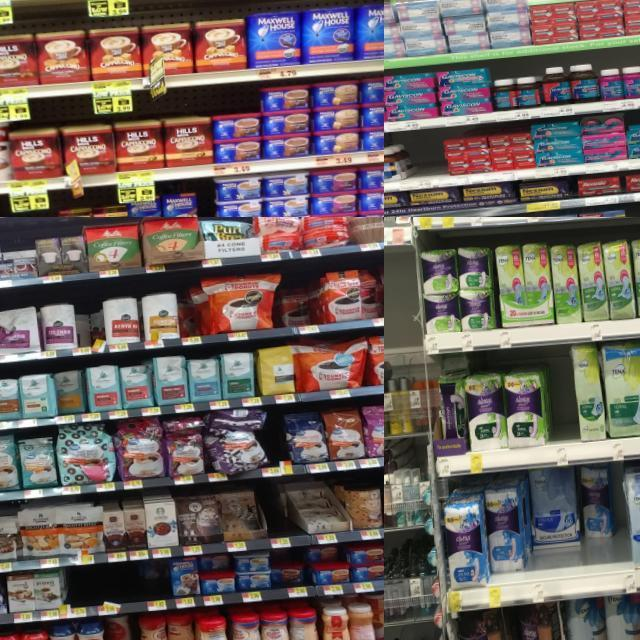Imprecise: (532, 460, 616, 582), (485, 486, 525, 586), (198, 550, 238, 593), (276, 284, 314, 326), (312, 544, 352, 582), (54, 369, 86, 415), (141, 555, 172, 599), (71, 308, 104, 347), (272, 563, 314, 588)
